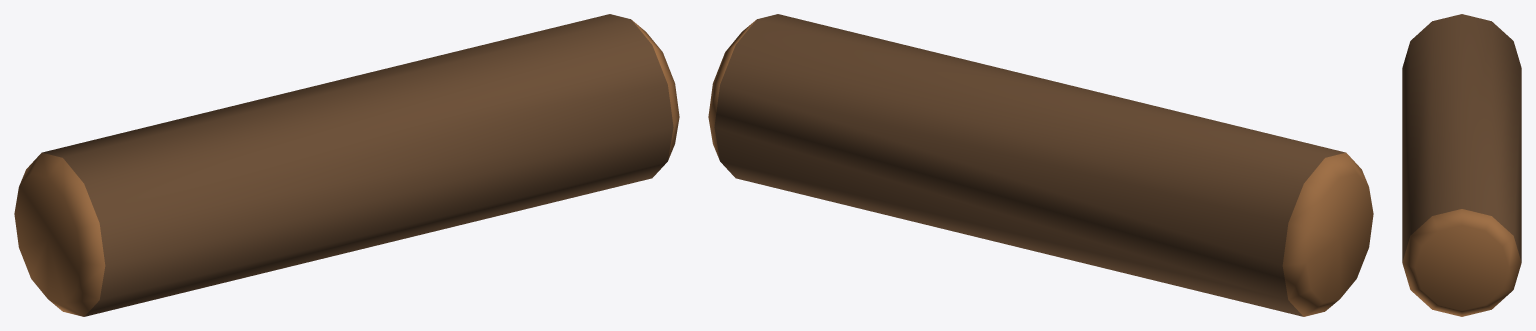
The model's file is Campfire_Log.fbx.
The picture shows the model from 3 angles, left to right: view 1: azimuth 30°, elevation 25°; view 2: azimuth 150°, elevation 25°; view 3: azimuth 270°, elevation 25°; orthographic projection. The views are drawn at different scales.
Visible parts, largest first — view 1: Logs.002; view 2: Logs.002; view 3: Logs.002.
Part boxes in pixels (<box>): Logs.002: <box>14,14,679,316</box>; Logs.002: <box>708,14,1373,316</box>; Logs.002: <box>1402,14,1521,316</box>.
Size of the model in its own units: 107 by 26.4 by 26.4.
